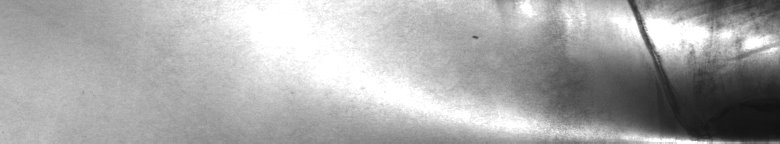ke: (460, 4, 776, 136)
